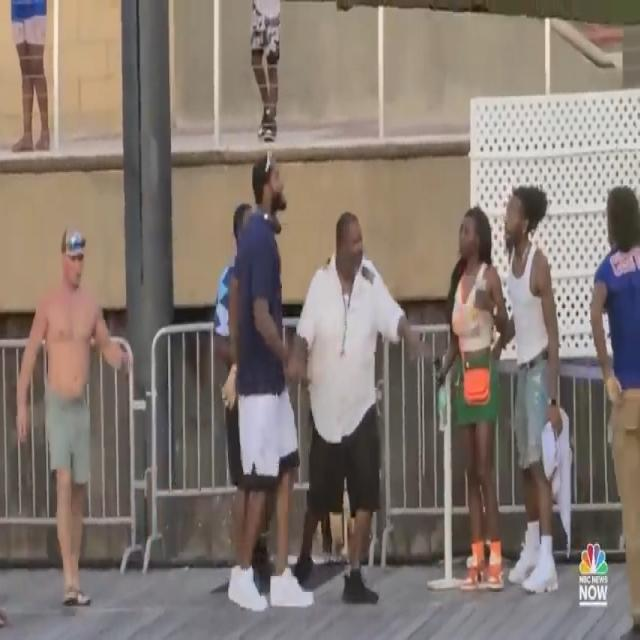non-fight: (187, 131, 576, 614), (9, 215, 138, 621)
